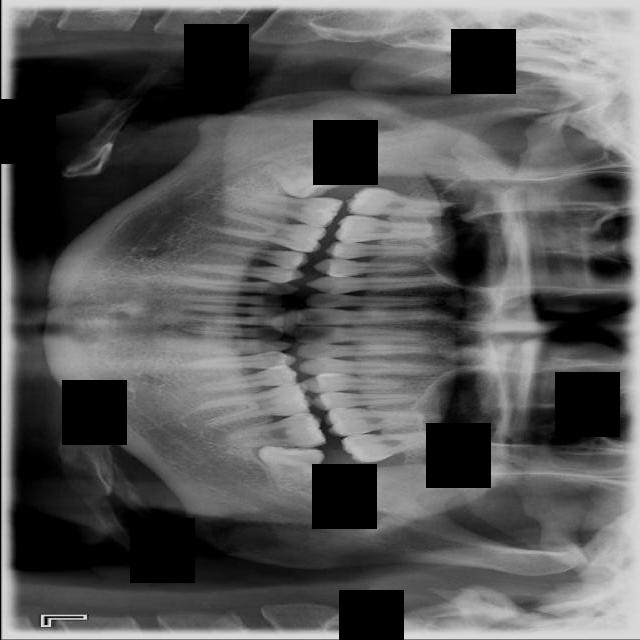73: (66, 582, 79, 590)
BioHorizons Implant: (340, 430, 436, 465)
Biomet 3i Implant: (253, 441, 324, 495)
Blue Sky Bio Implant: (218, 411, 326, 454)
Caries: (345, 186, 453, 219)
Implant: (239, 192, 342, 228)
Keystone Dental Implant: (256, 154, 342, 209)
